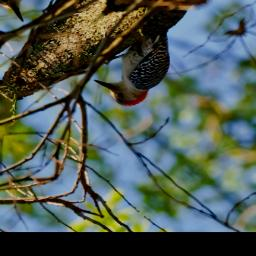Woodpecker: (77, 11, 215, 124)
